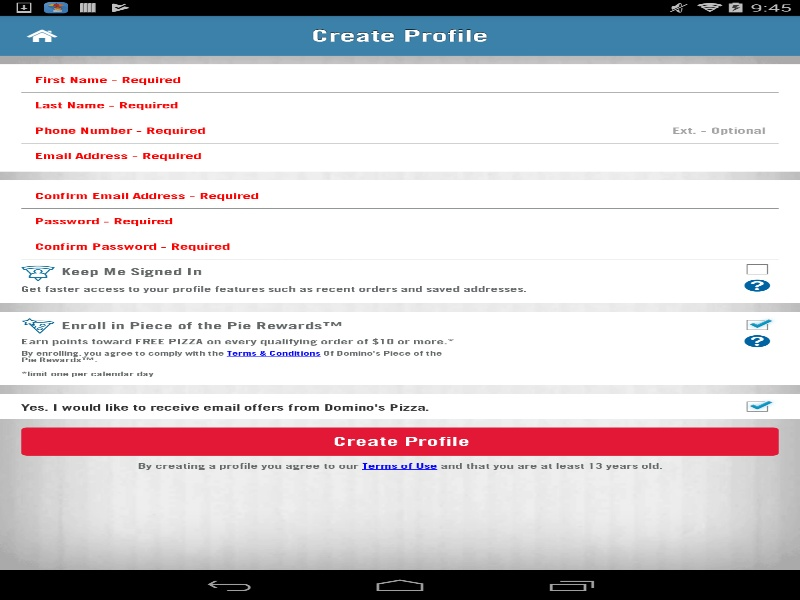Button: (21, 427, 778, 455), (0, 15, 80, 55)
Input: (21, 67, 778, 92), (21, 92, 778, 117), (21, 143, 778, 168), (21, 183, 778, 208), (21, 208, 778, 233), (21, 234, 778, 259), (21, 118, 658, 143), (658, 118, 778, 143)
